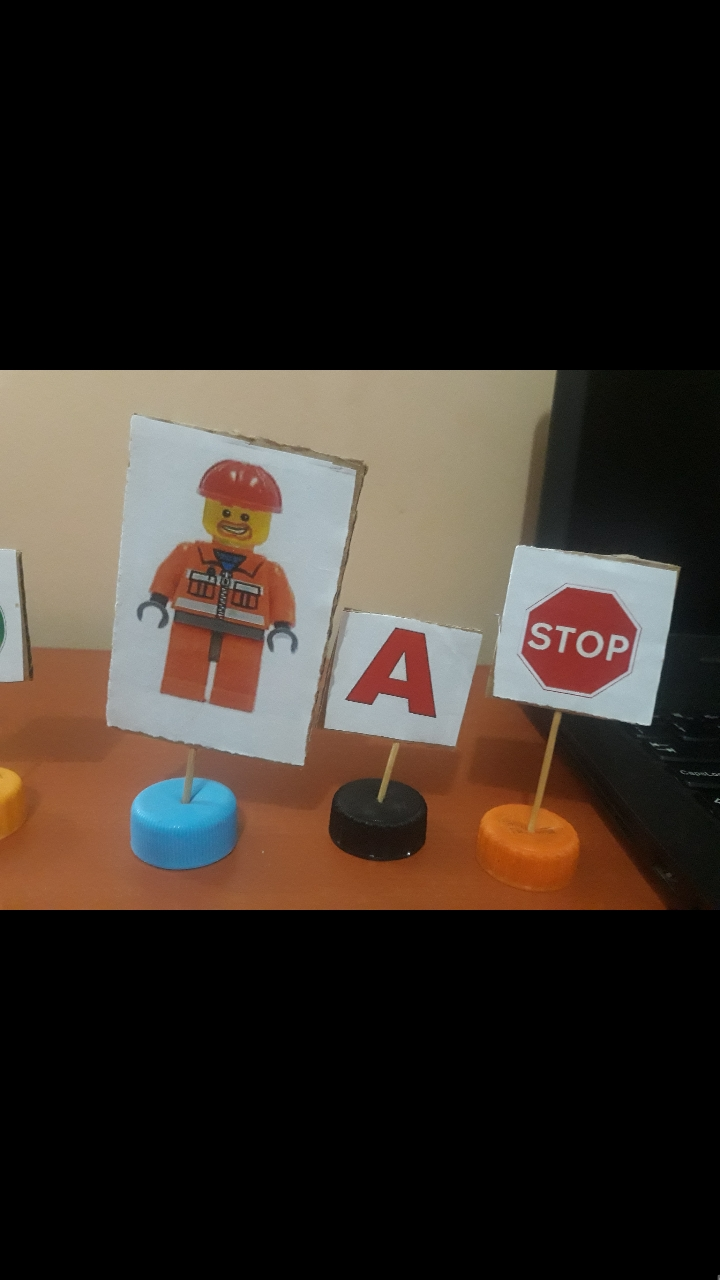pedestrian: (132, 431, 310, 757)
stop: (508, 549, 667, 714)
zone A: (340, 614, 455, 733)
